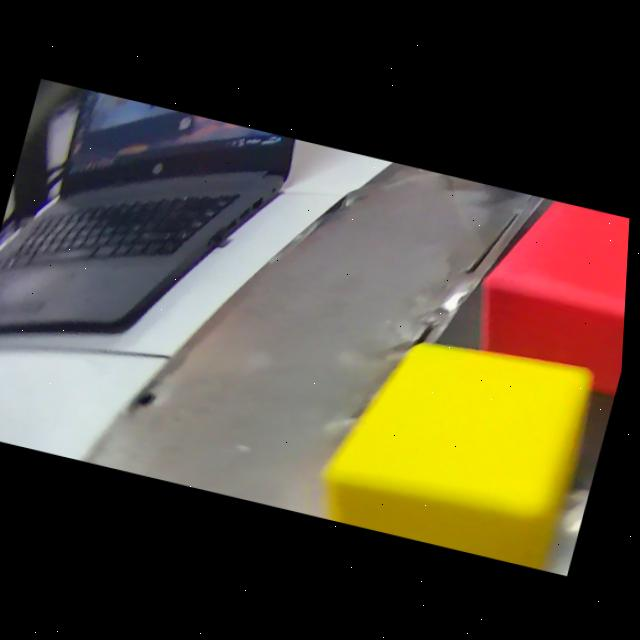redBox: (460, 185, 633, 395)
yellowBox: (311, 313, 614, 570)
